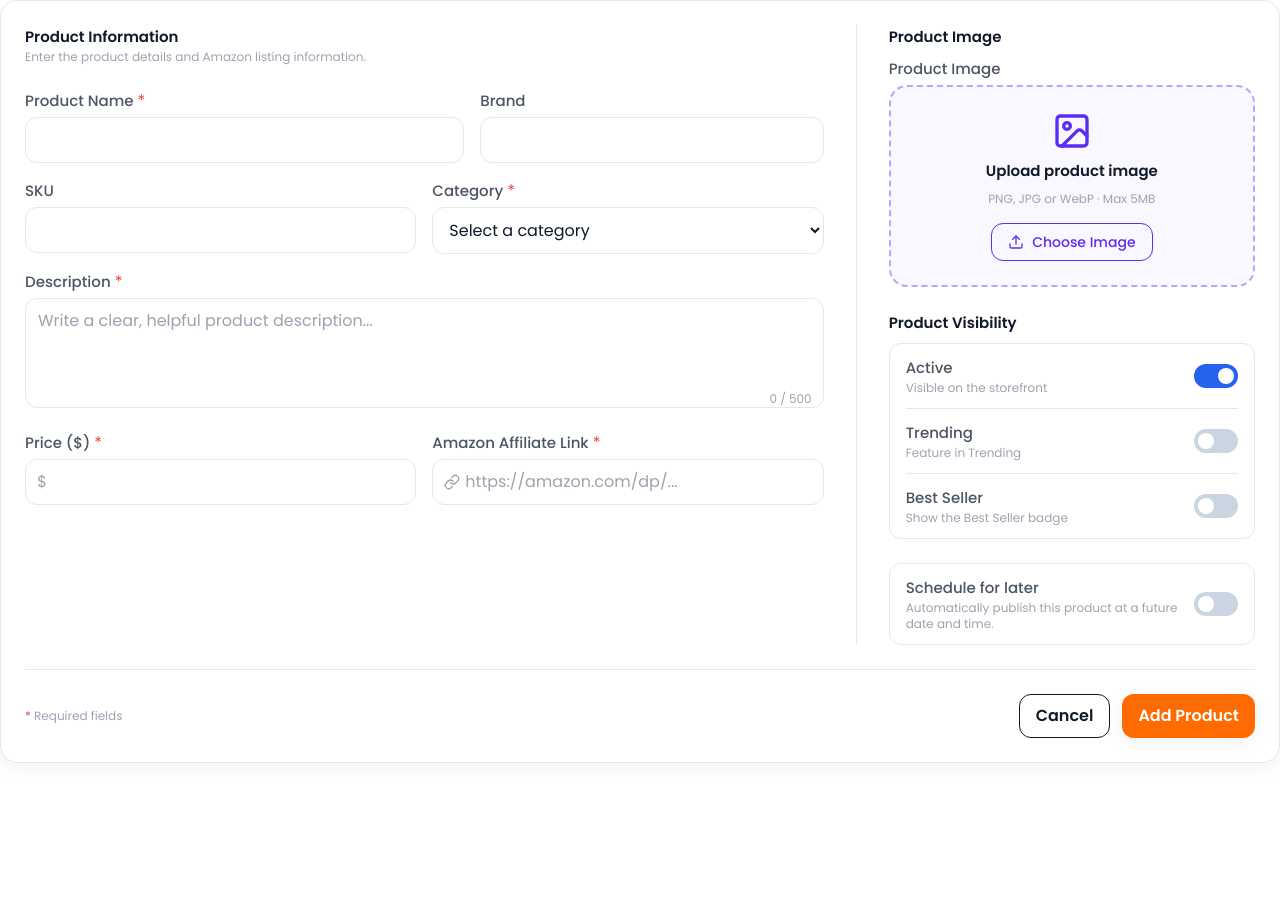
Test: ProductForm › requires a scheduled date when Schedule for later is on
Type "Wireless Earbuds" into the field labelled "Product Name" at (245, 140), box x1=25 y1=117 x2=464 y2=163
Select "Electronics" in the dropdown labelled "Category" at (628, 230), box x1=432 y1=207 x2=824 y2=254
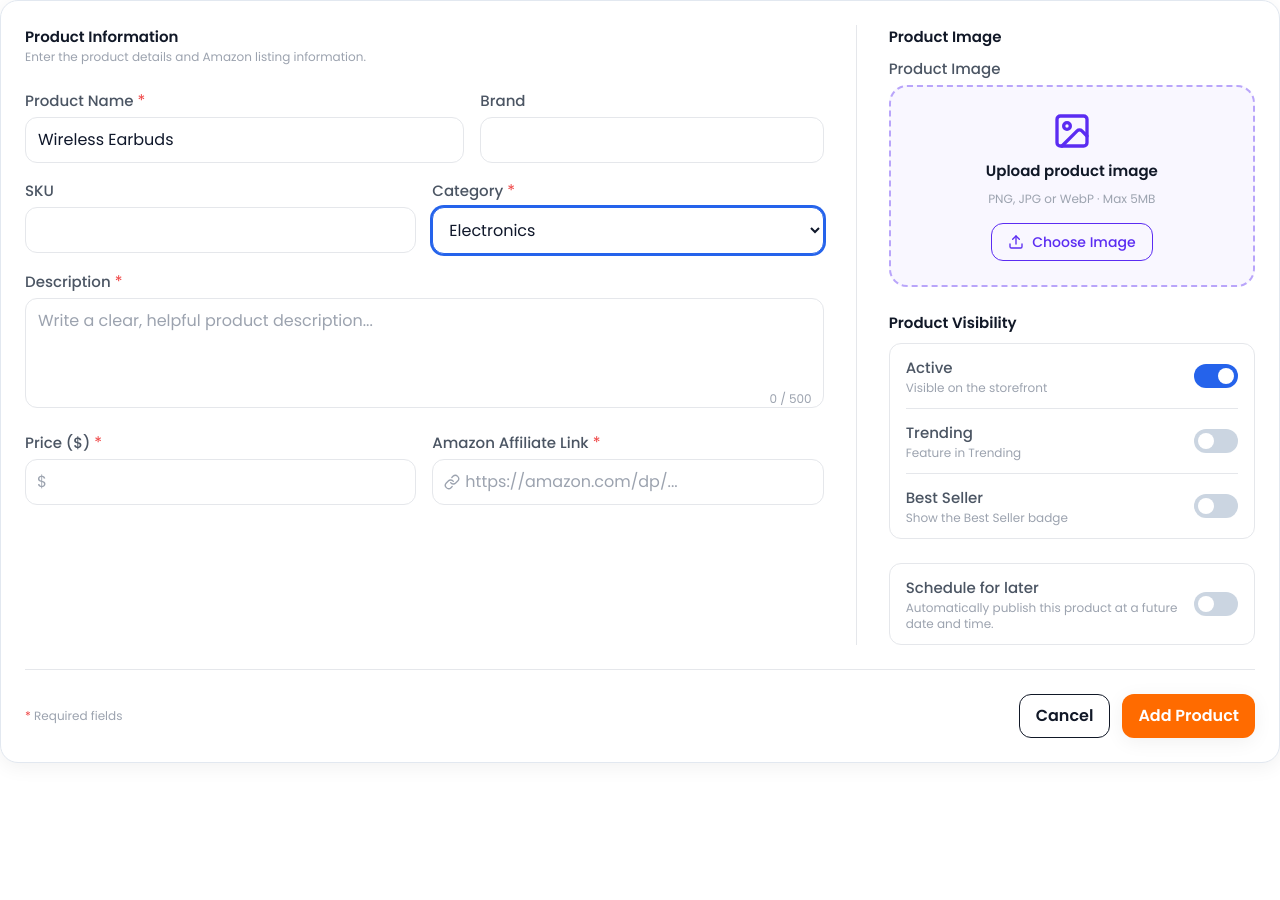
Type "Compact wireless earbuds." into the text box labelled "Description" at (424, 353), box x1=25 y1=298 x2=824 y2=408
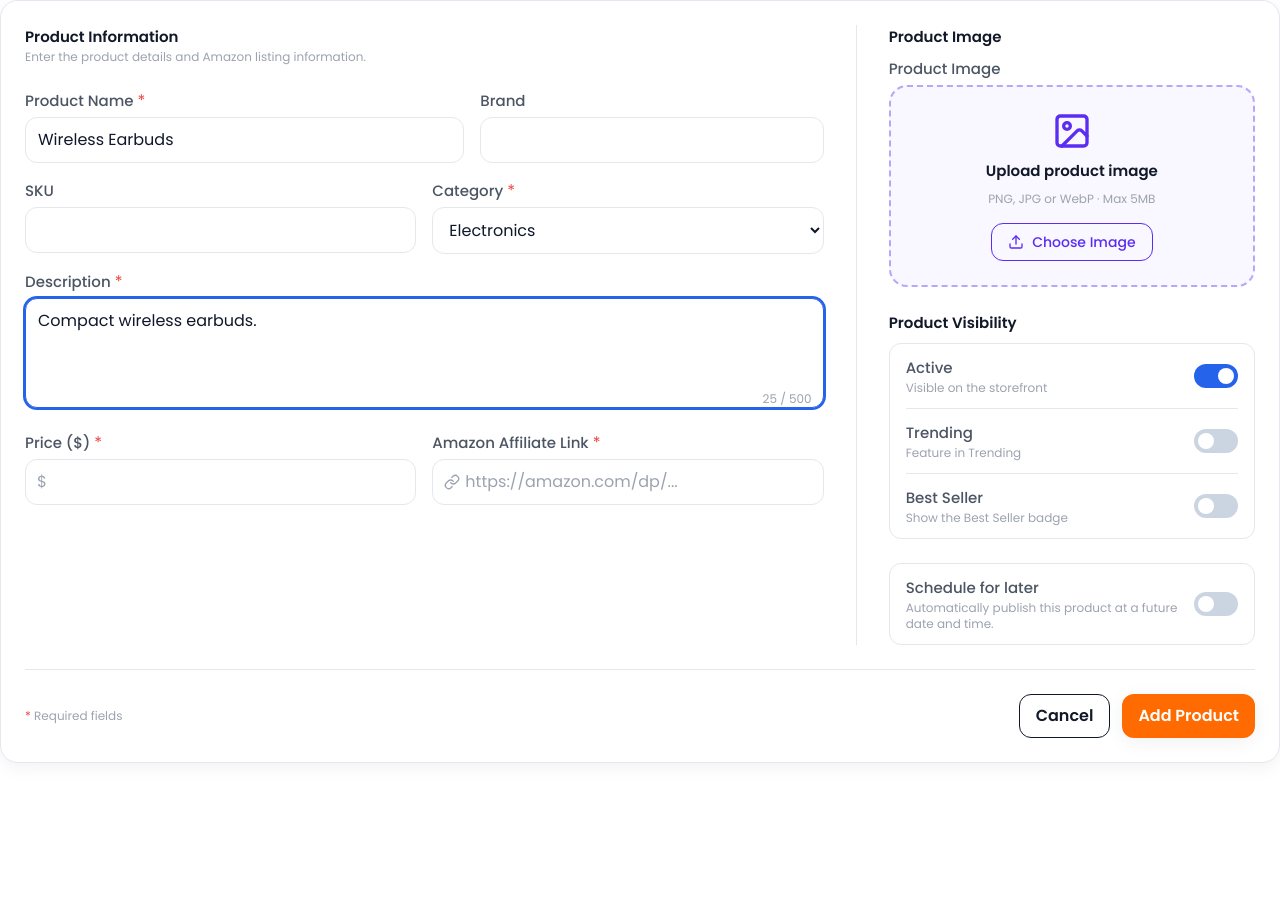
Type "49.99" into the number field labelled "Price ($)" at (221, 482), box x1=25 y1=459 x2=416 y2=505
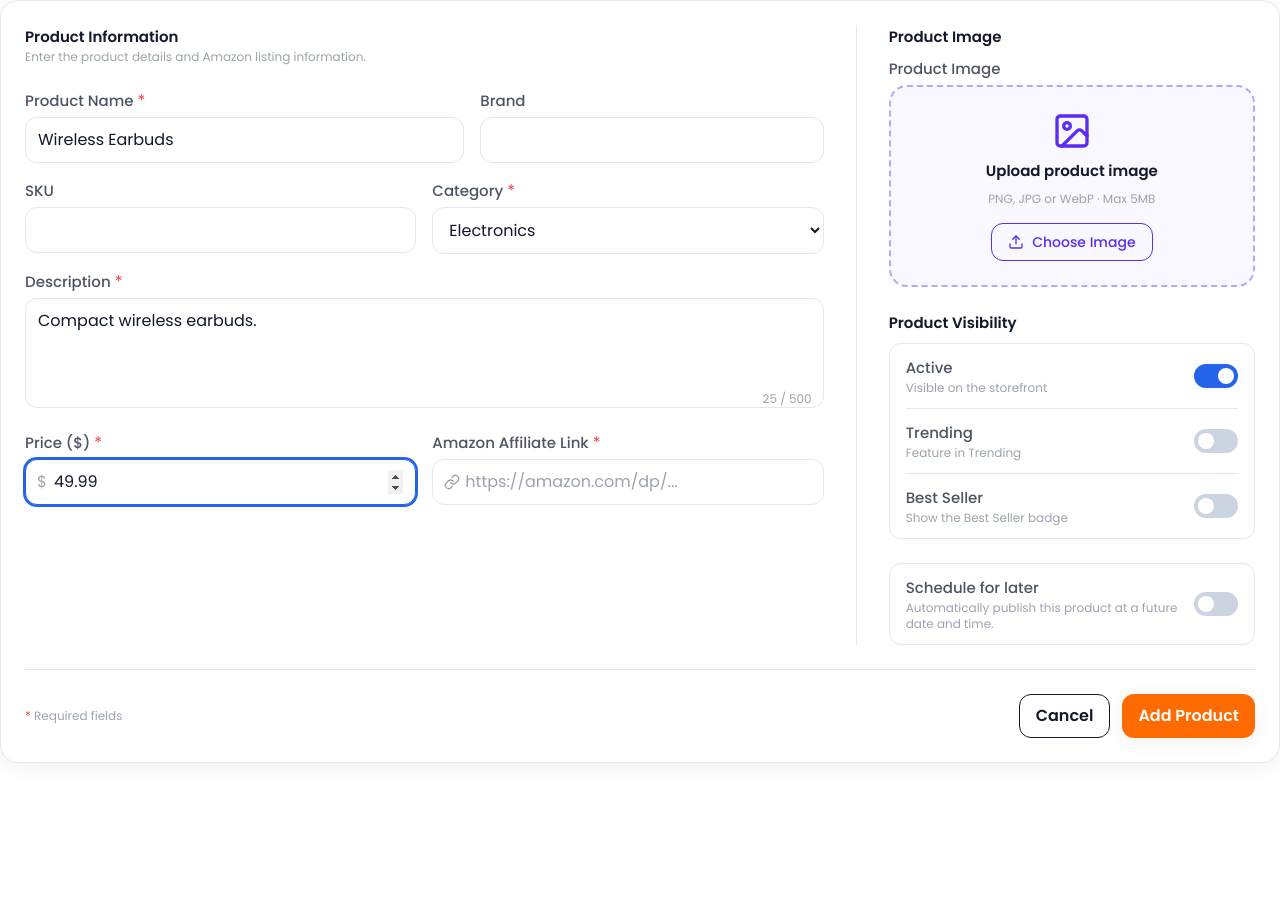
Type "https://amazon.com/dp/example" into the field labelled "Amazon Affiliate Link" at (628, 482), box x1=432 y1=459 x2=824 y2=505
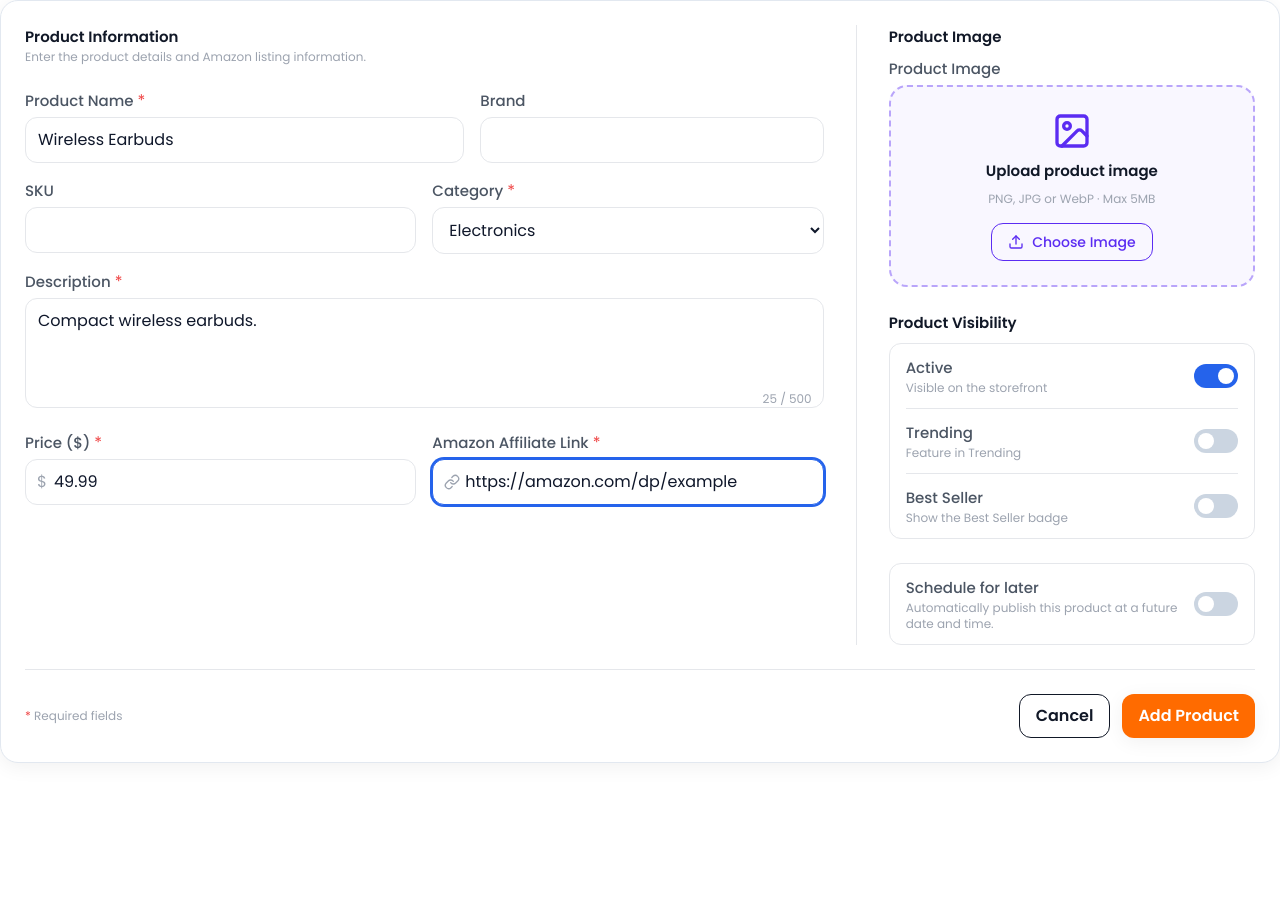
Click the switch named "Schedule for later" at (1216, 604), box x1=1194 y1=592 x2=1238 y2=616
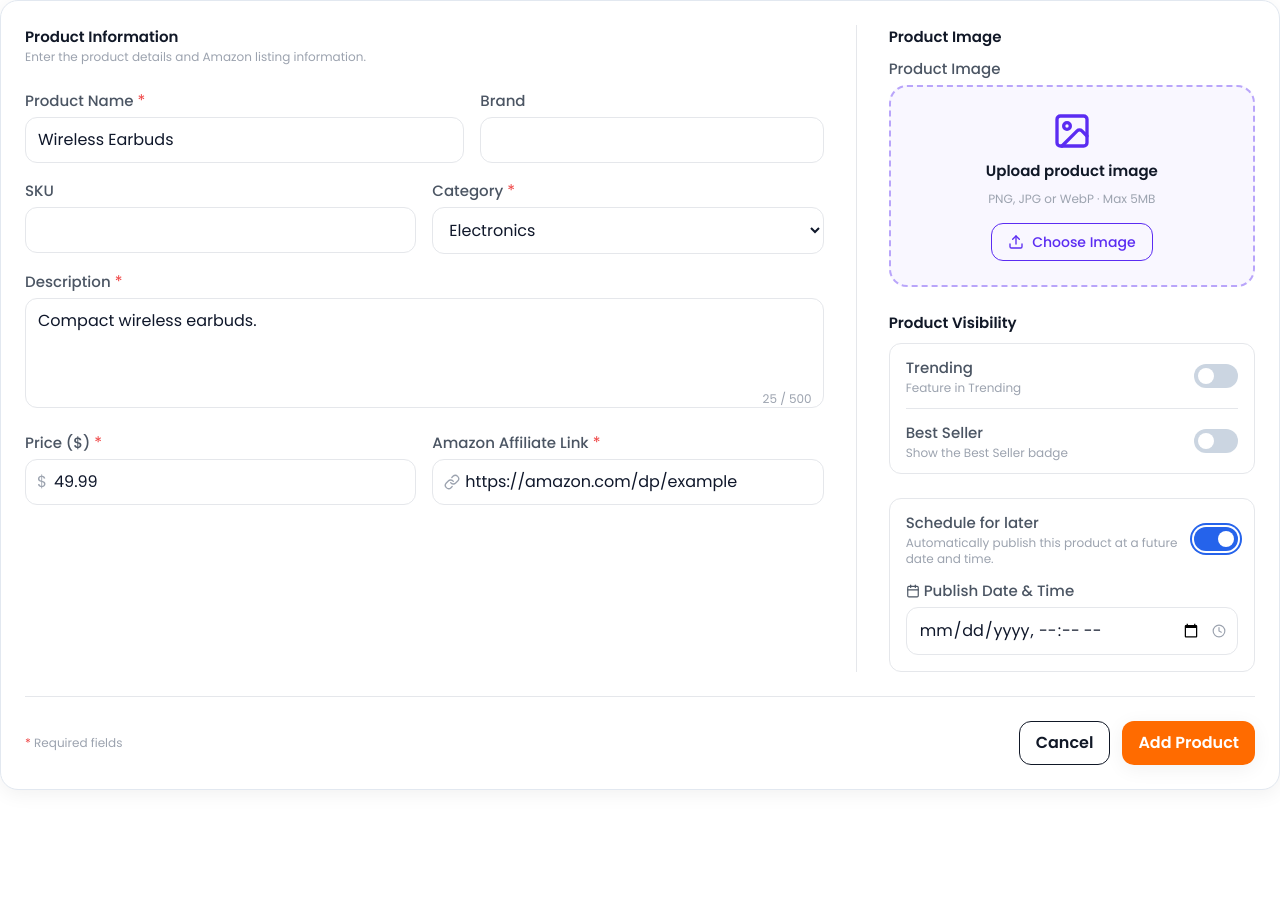
Click the button "Add Product" at (1189, 743), box x1=1122 y1=721 x2=1255 y2=765
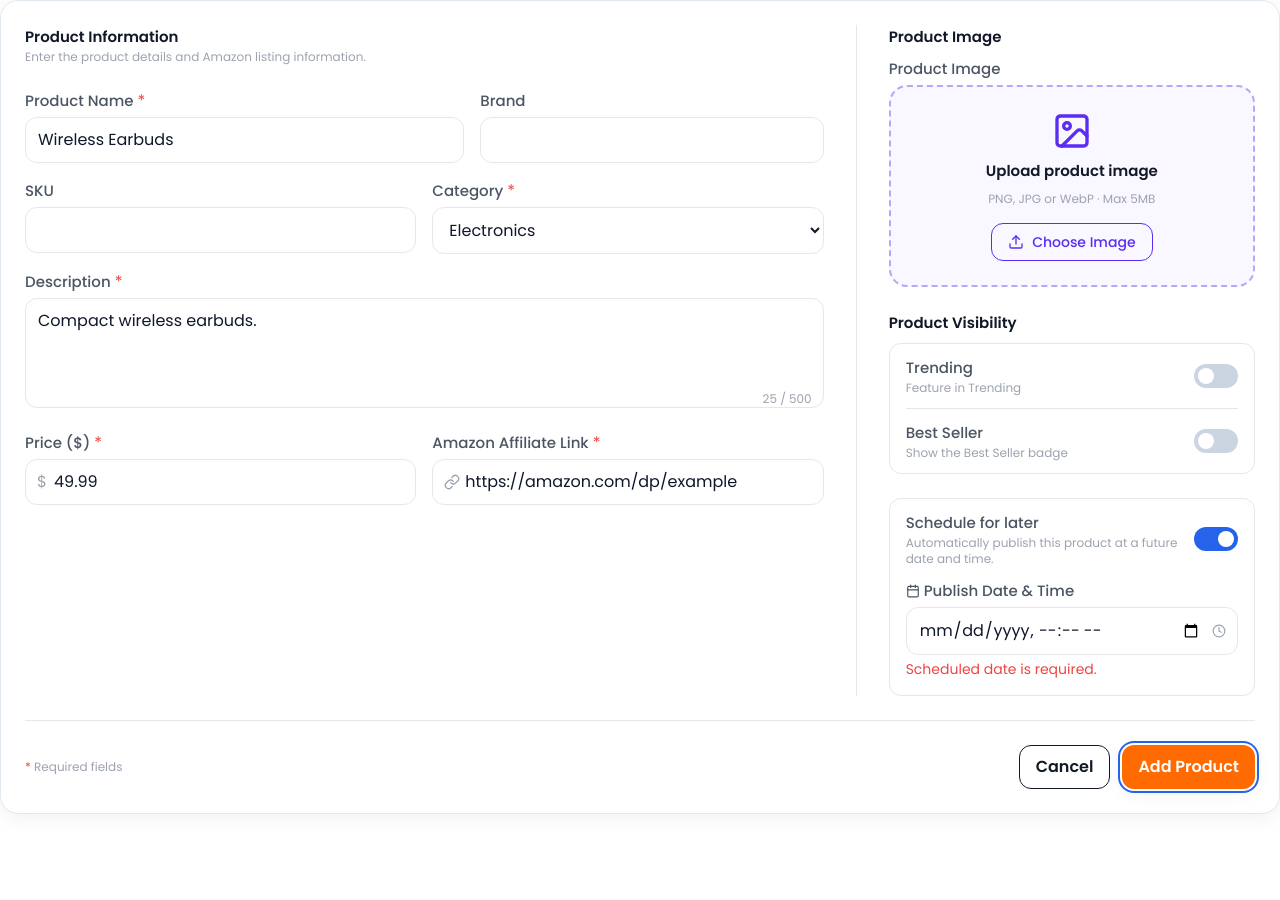
Expected: the text "Scheduled date is required." is shown, x1=906 y1=659 x2=1097 y2=679
